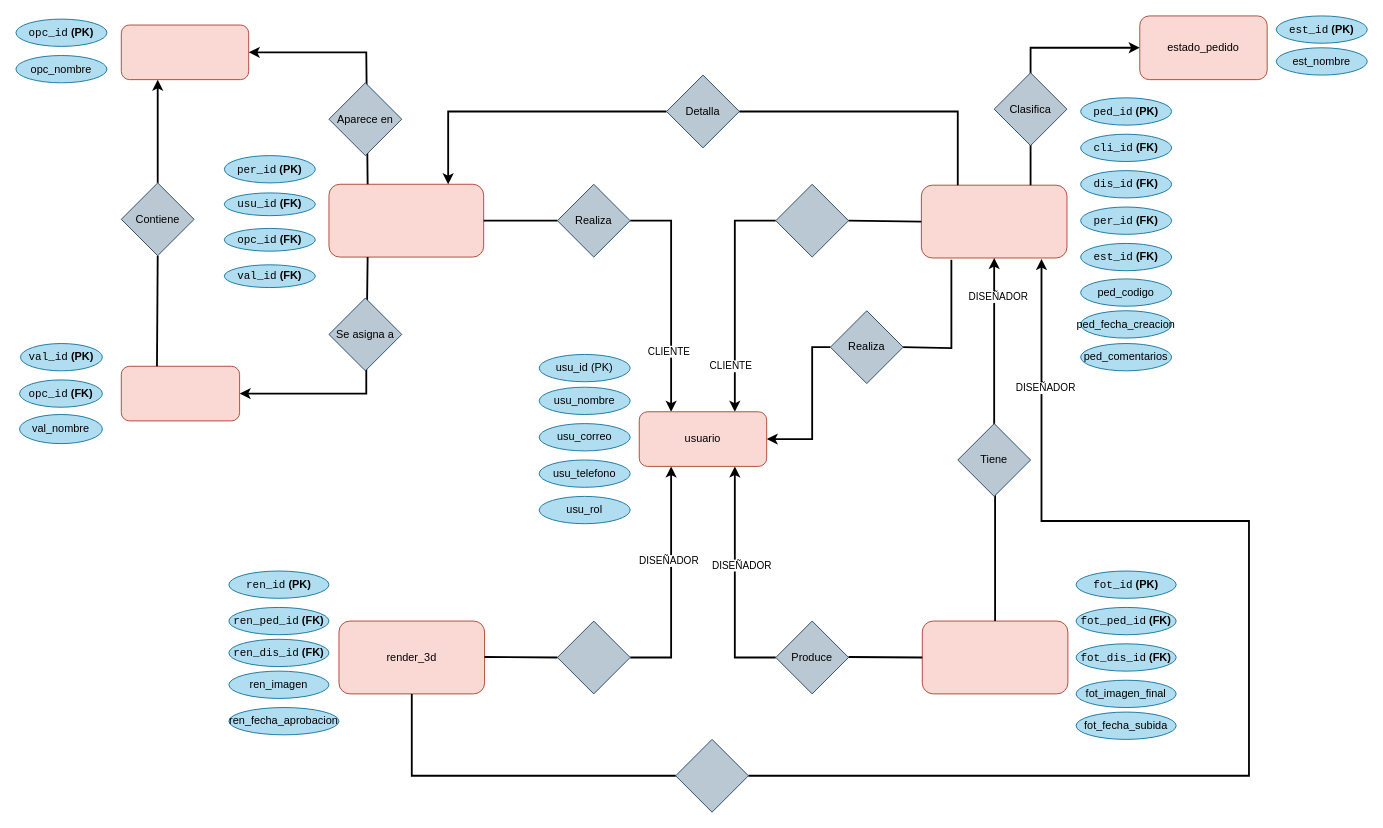
Some shapes in this 1383 by 828 pixel diagram are drawn without their labels. The centre of each missing label's shape, as x and y in pixels:
Dise ña: (x=593, y=657)
foto_producto_final: (x=994, y=657)
Genera: (x=711, y=775)
opcion_personalizacion: (x=184, y=52)
pedido: (x=993, y=221)
personalizacion: (x=406, y=220)
Solicita: (x=812, y=220)
valor_personalizacion: (x=180, y=393)
